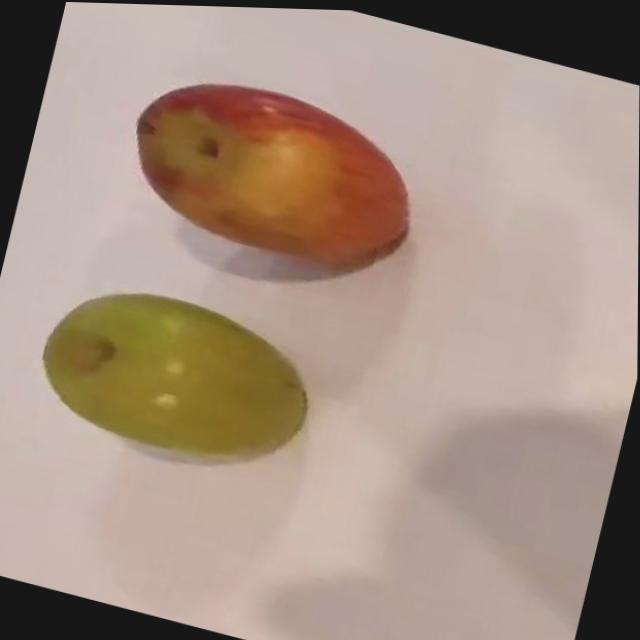Apple: (114, 56, 433, 286), (26, 266, 326, 486)
